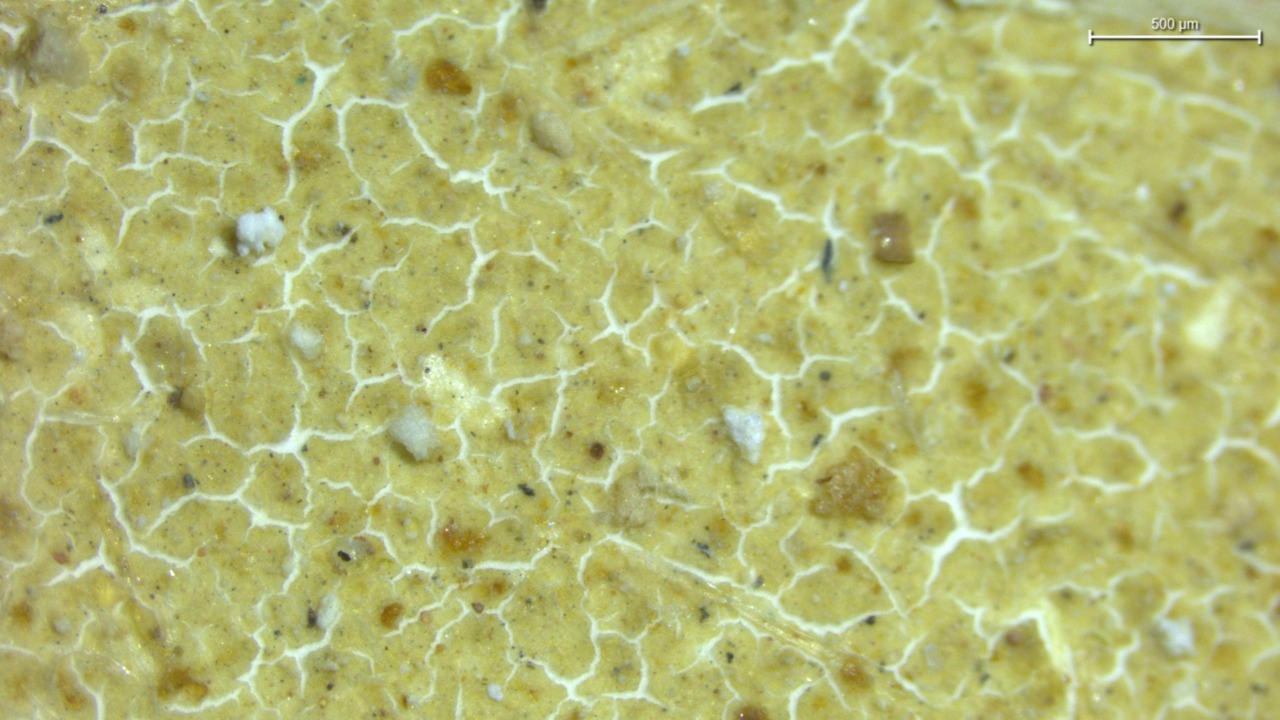microplastic_fragment: (389, 404, 437, 461), (235, 206, 285, 257), (723, 407, 764, 464)
